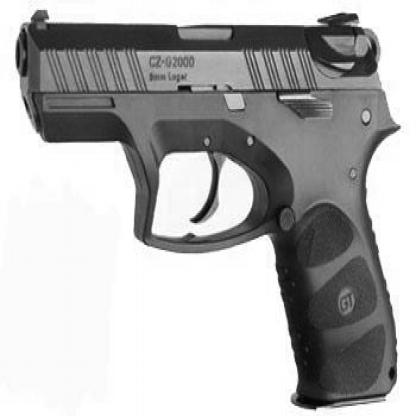Guns: (11, 3, 404, 414)
